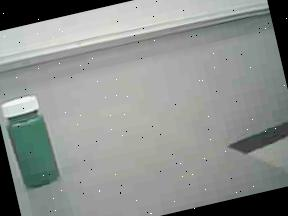Bottle C: (0, 83, 75, 198)
